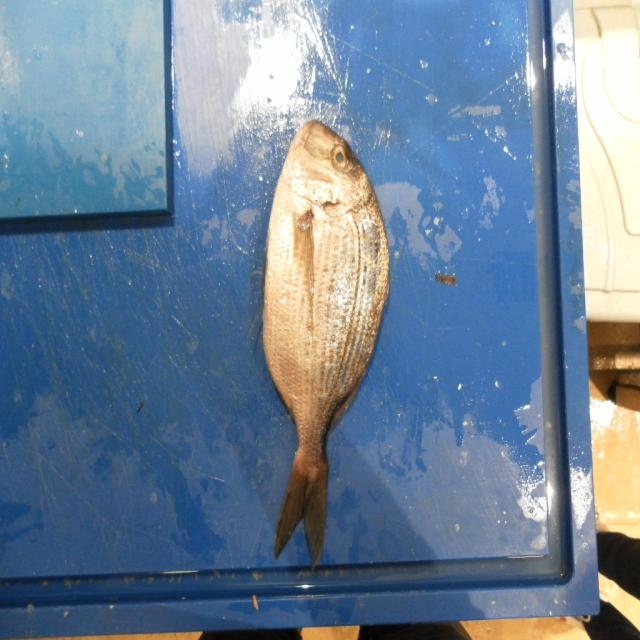Red-Sea-Bream-mercan-: (261, 121, 391, 566)
